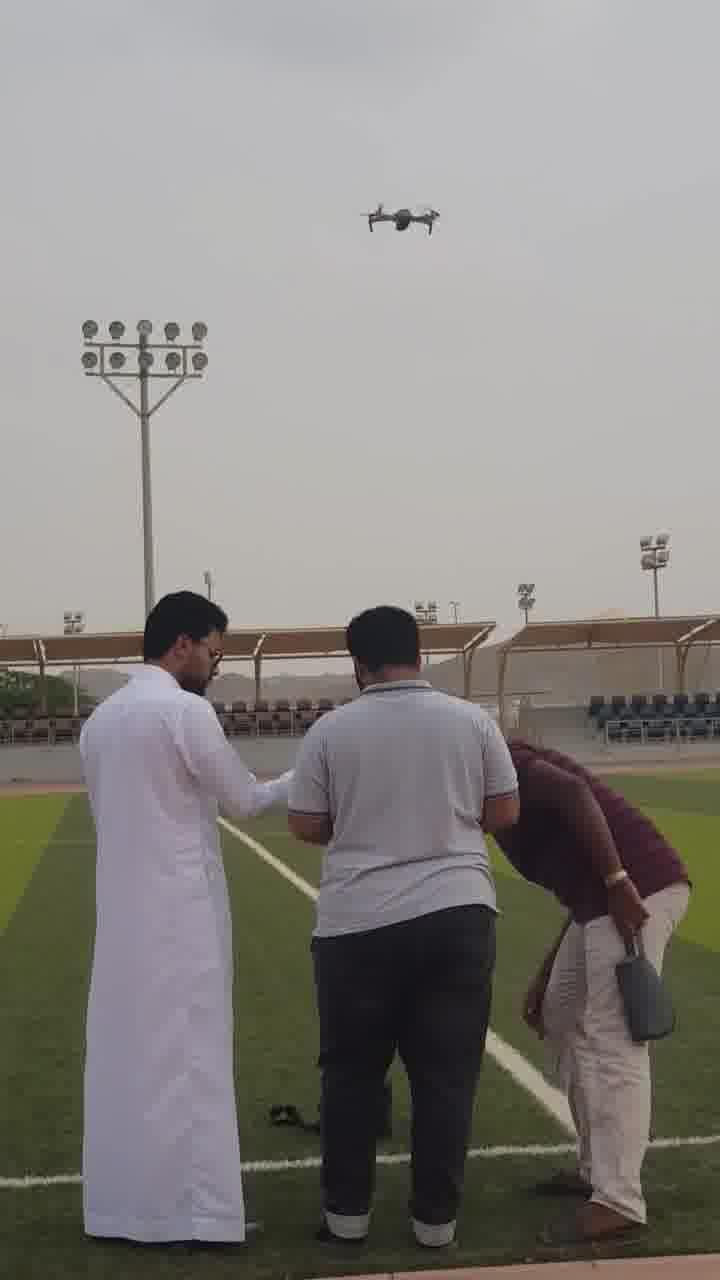drone: (350, 194, 457, 253)
